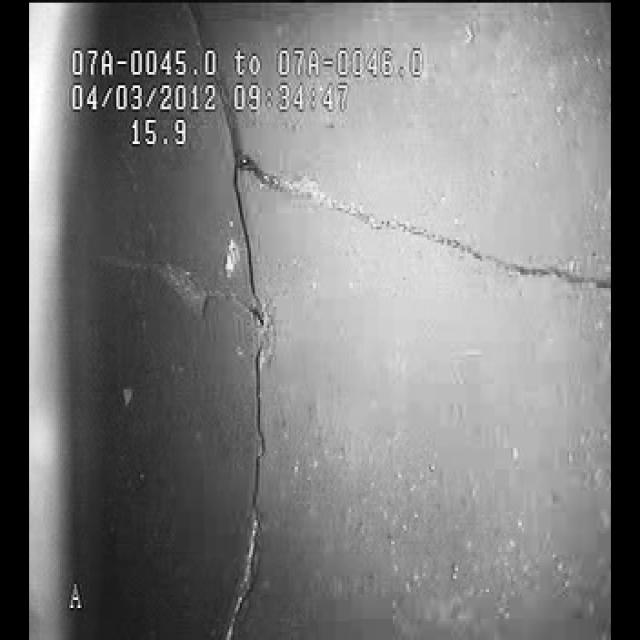Crack: (263, 147, 581, 307), (203, 151, 304, 595)
